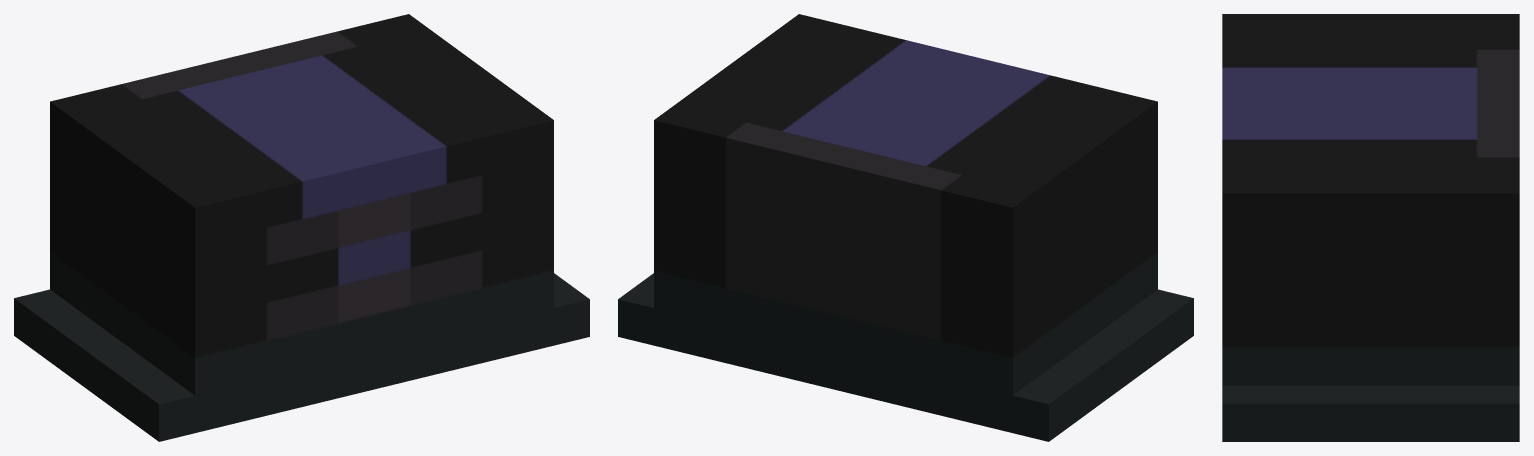
Rendered from Spine057.fbx.
The picture shows the model from 3 angles, left to right: view 1: azimuth 30°, elevation 25°; view 2: azimuth 150°, elevation 25°; view 3: azimuth 270°, elevation 25°; orthographic projection. The views are drawn at different scales.
Visible parts, largest first — view 1: Spine057; view 2: Spine057; view 3: Spine057.
Boxes of the visible parts, x1,y1,x2,y2 form: Spine057: [14, 14, 589, 441]; Spine057: [618, 14, 1193, 441]; Spine057: [1222, 14, 1519, 441].
Bounding box in the file's own units: 12 × 6 × 7.
